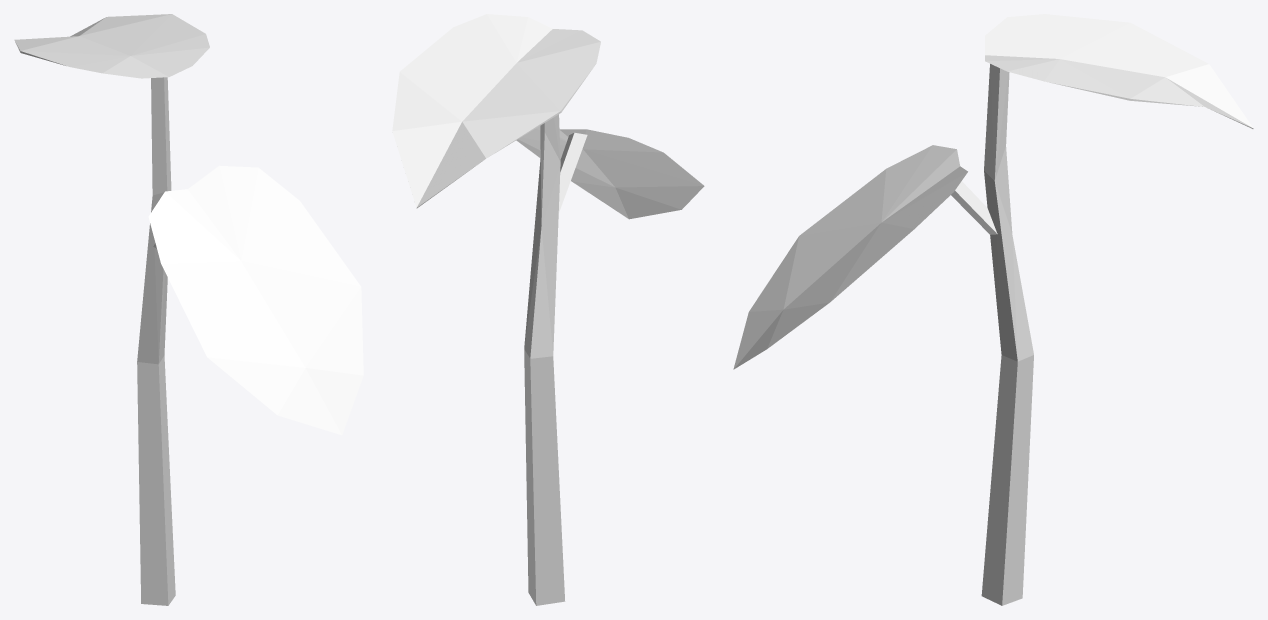
The model's file is Crop_Potato_STAGE_1_01.glb.
The picture shows the model from 3 angles, left to right: view 1: azimuth 30°, elevation 25°; view 2: azimuth 150°, elevation 25°; view 3: azimuth 270°, elevation 25°; orthographic projection. The views are drawn at different scales.
Visible parts, largest first — view 1: Crop_Potato_STAGE_1_01; view 2: Crop_Potato_STAGE_1_01; view 3: Crop_Potato_STAGE_1_01.
Part boxes in pixels (<box>): Crop_Potato_STAGE_1_01: <box>14,14,363,605</box>; Crop_Potato_STAGE_1_01: <box>392,14,704,605</box>; Crop_Potato_STAGE_1_01: <box>733,14,1253,605</box>.
Bounding box in the file's own units: 0.113 × 0.2977 × 0.2533.
1 material, 1 textured.
